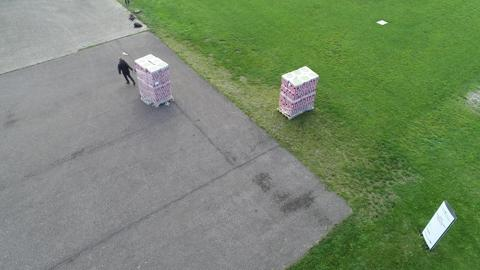RockwoolPallet: (135, 54, 172, 108)
